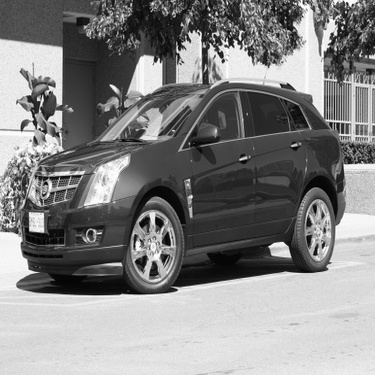car: (16, 70, 356, 279)
